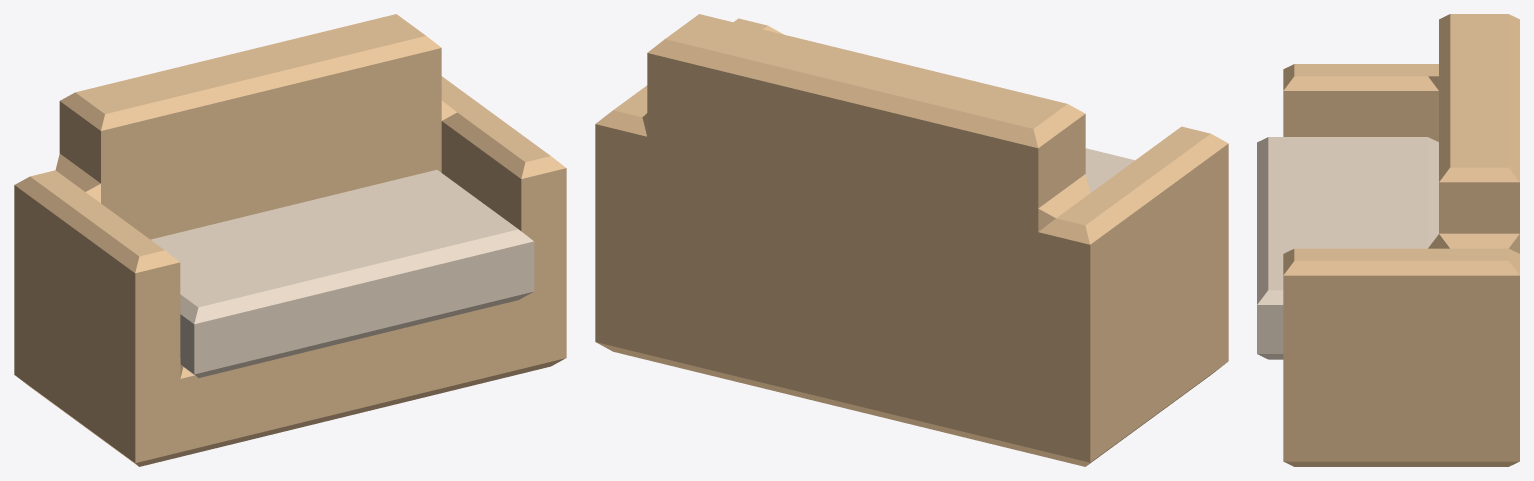
Rendered from sofa1.fbx.
3 views of the same model, side by side, from view 1: azimuth 30°, elevation 25°; view 2: azimuth 150°, elevation 25°; view 3: azimuth 270°, elevation 25° (orthographic). The views are drawn at different scales.
Visible parts, largest first — view 1: Cube.001; view 2: Cube.001; view 3: Cube.001.
Part boxes in pixels (x1,y1,x2,y2): Cube.001: (14,14,566,466); Cube.001: (595,14,1228,466); Cube.001: (1257,14,1519,466).
Size of the model in its own units: 117 by 137 by 217.
